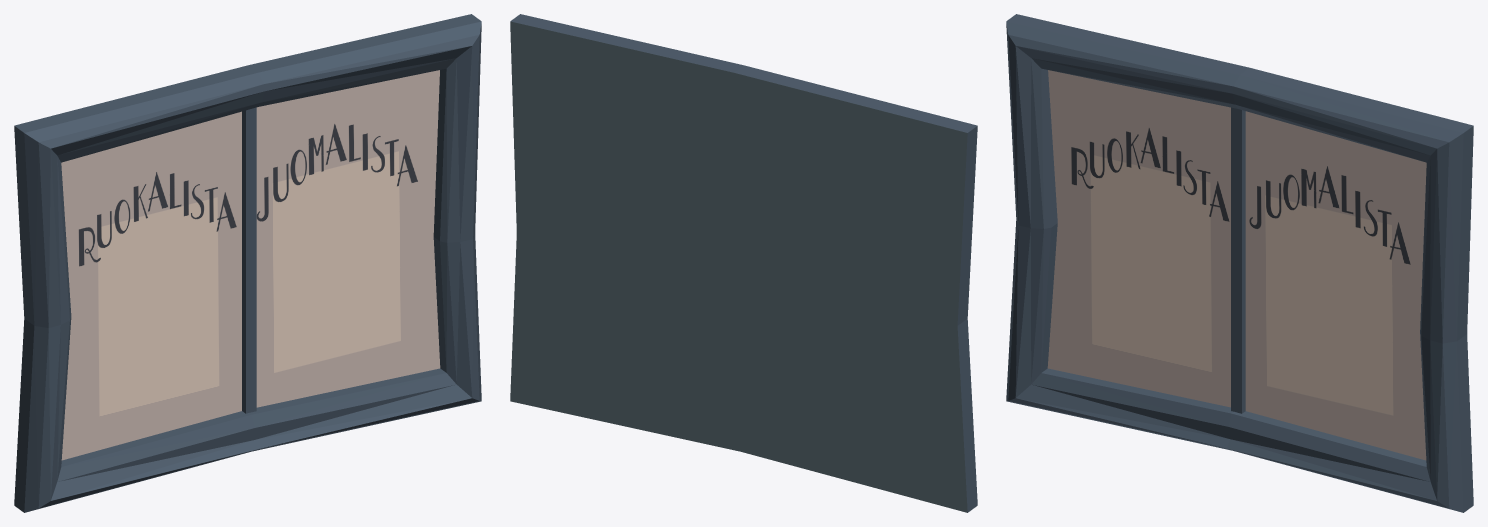
File: menu_upstairs_quest_02.fbx
3 views of the same model, side by side, from view 1: azimuth 30°, elevation 25°; view 2: azimuth 150°, elevation 25°; view 3: azimuth 330°, elevation 25° (orthographic).
Visible parts, largest first — view 1: menu_upstairs; view 2: menu_upstairs; view 3: menu_upstairs.
Part boxes in pixels (x1,y1,x2,y2): menu_upstairs: [14, 14, 481, 512]; menu_upstairs: [510, 14, 977, 512]; menu_upstairs: [1006, 14, 1473, 512].
Size of the model in its own units: 189 by 151 by 13.34.
